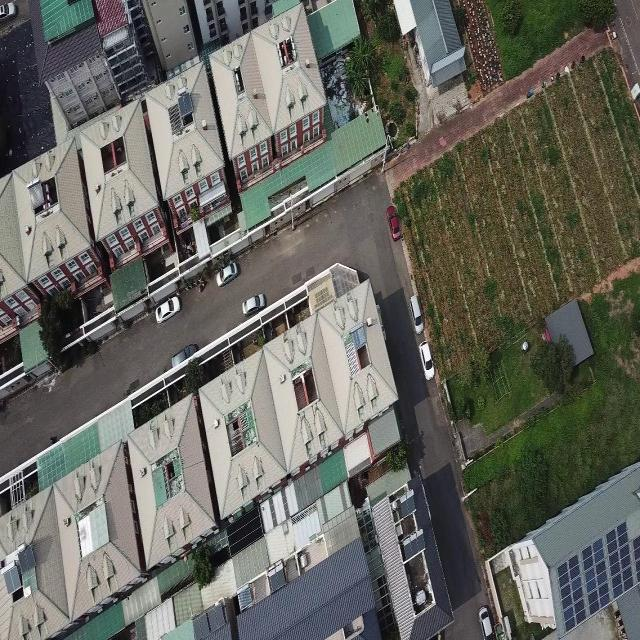car: (154, 292, 181, 324), (236, 292, 271, 316), (168, 343, 202, 366), (476, 604, 497, 639), (216, 258, 239, 286)
